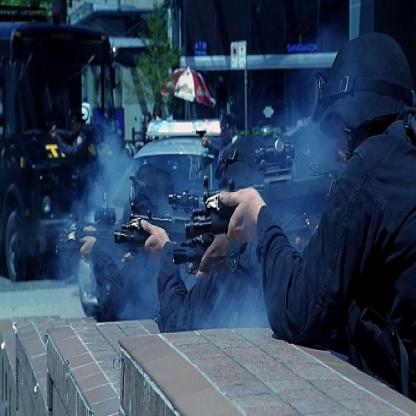Guns: (55, 138, 343, 286), (195, 127, 208, 138), (44, 119, 54, 132)
